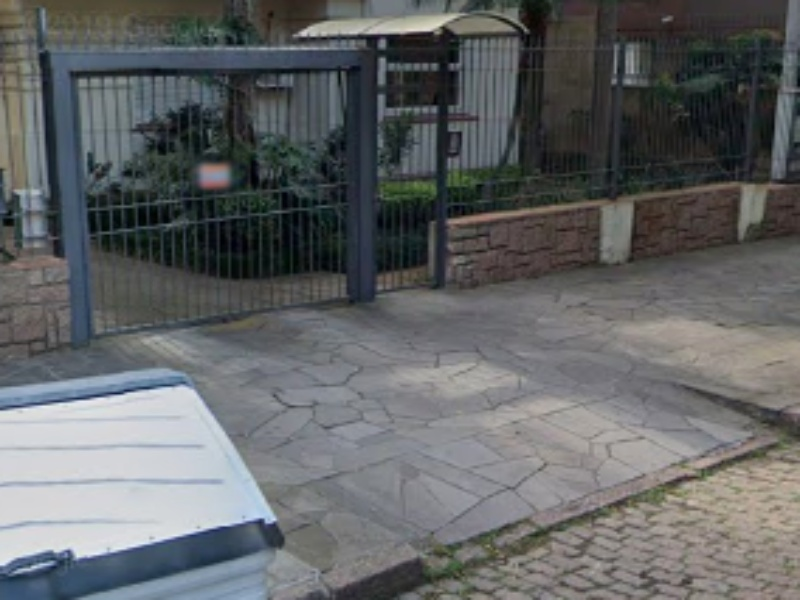v14: (383, 383, 791, 578)
